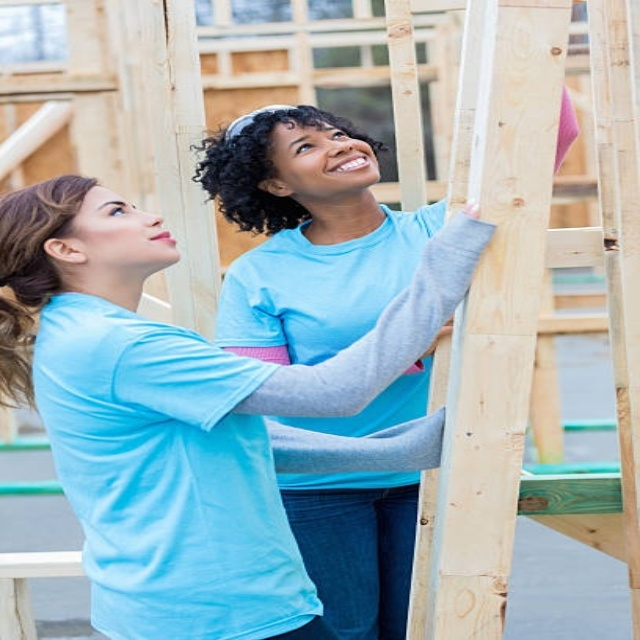Sin_gafas: (279, 120, 350, 162), (80, 196, 141, 225)
Sin_mascara: (317, 152, 381, 187), (132, 228, 180, 261)
